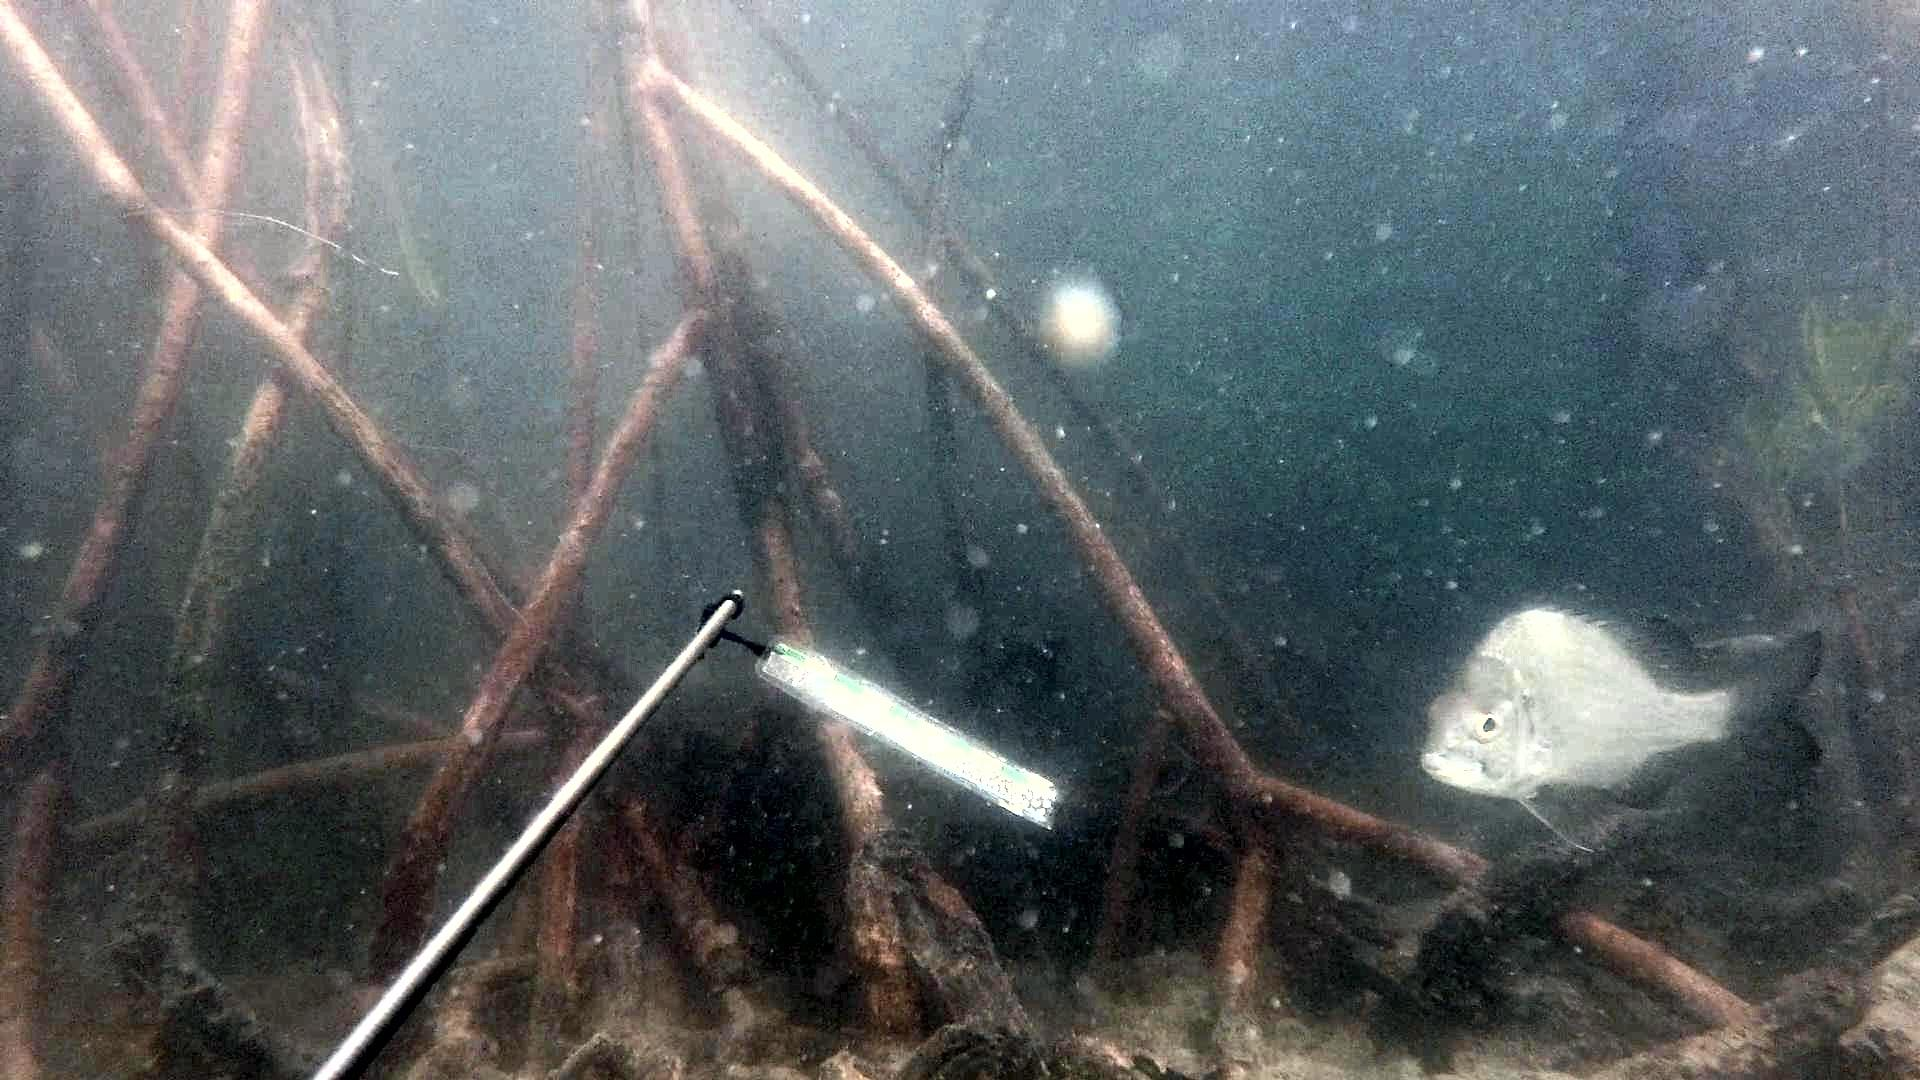acanthopagrus palmaris: (1404, 582, 1841, 865)
